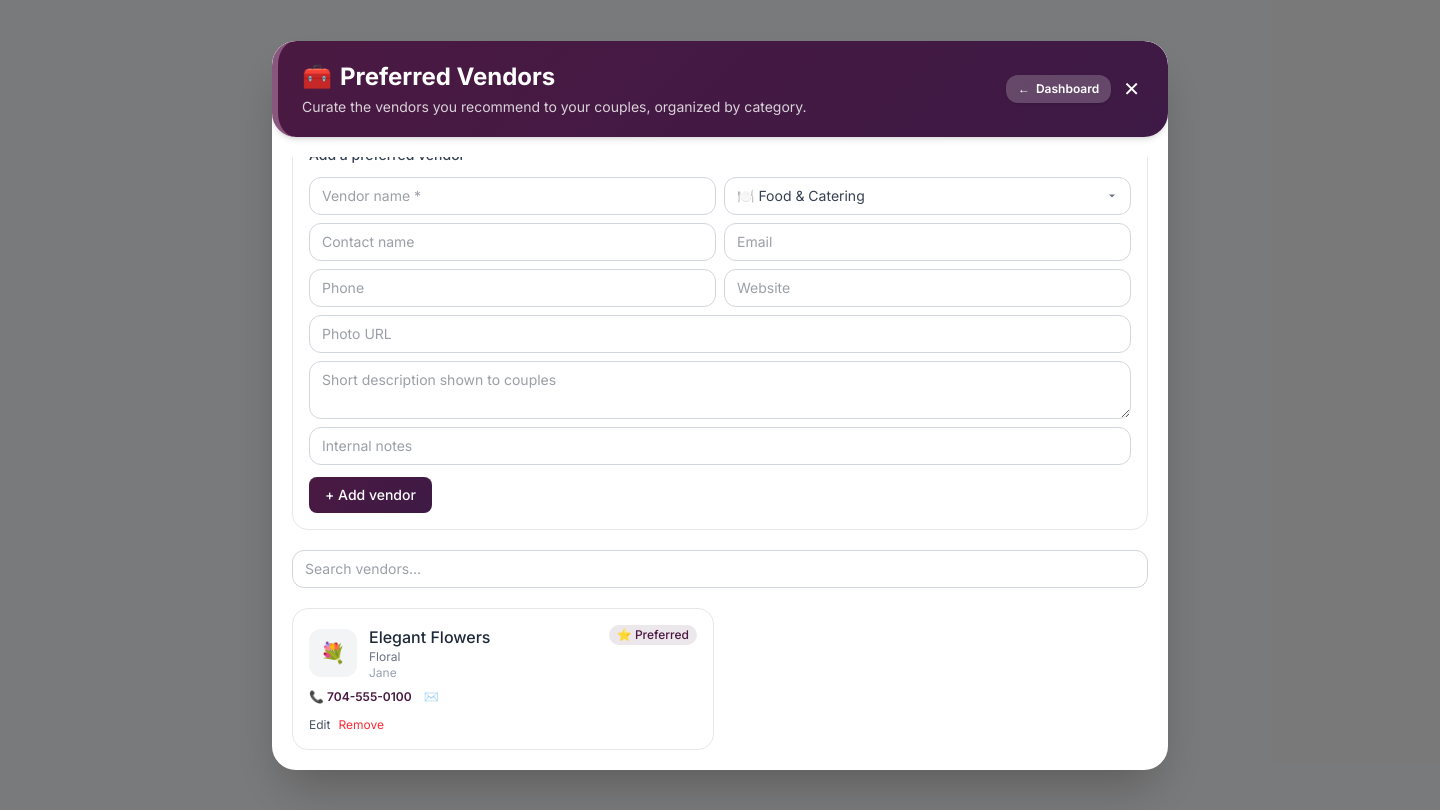
it: VendorPanel edit flow › renders the Edit button and lets a user update a vendor
(page scrolled)
Click the button "Edit" at (320, 724), box x1=309 y1=716 x2=330 y2=732
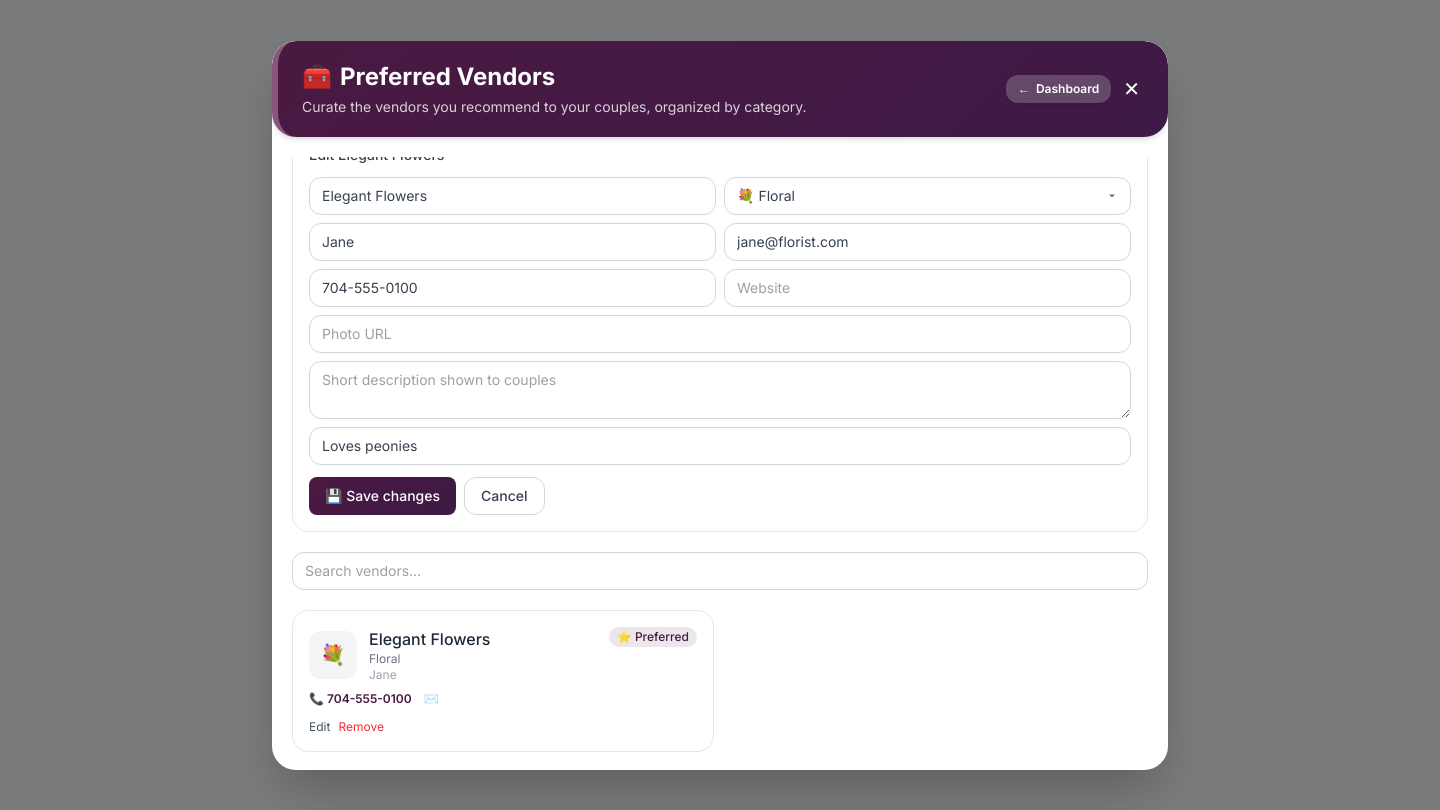
Note: Name field is pre-filled with the current vendor name.
Replace the text in the field showing "Elegant Flowers" with "Elegant Blooms Co." at (512, 196), box x1=309 y1=176 x2=716 y2=214
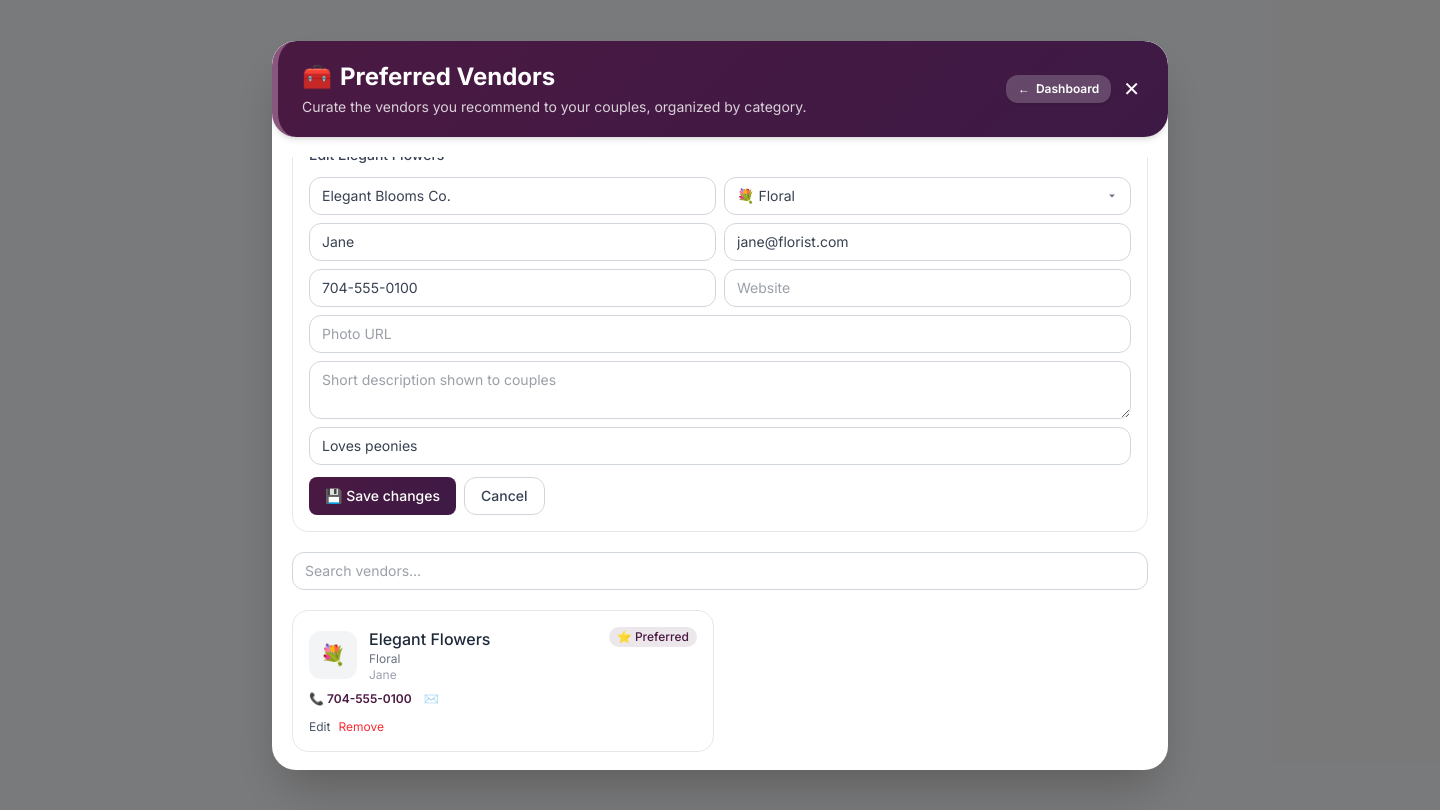
Click the button "💾 Save changes" at (382, 496), box x1=309 y1=476 x2=456 y2=514
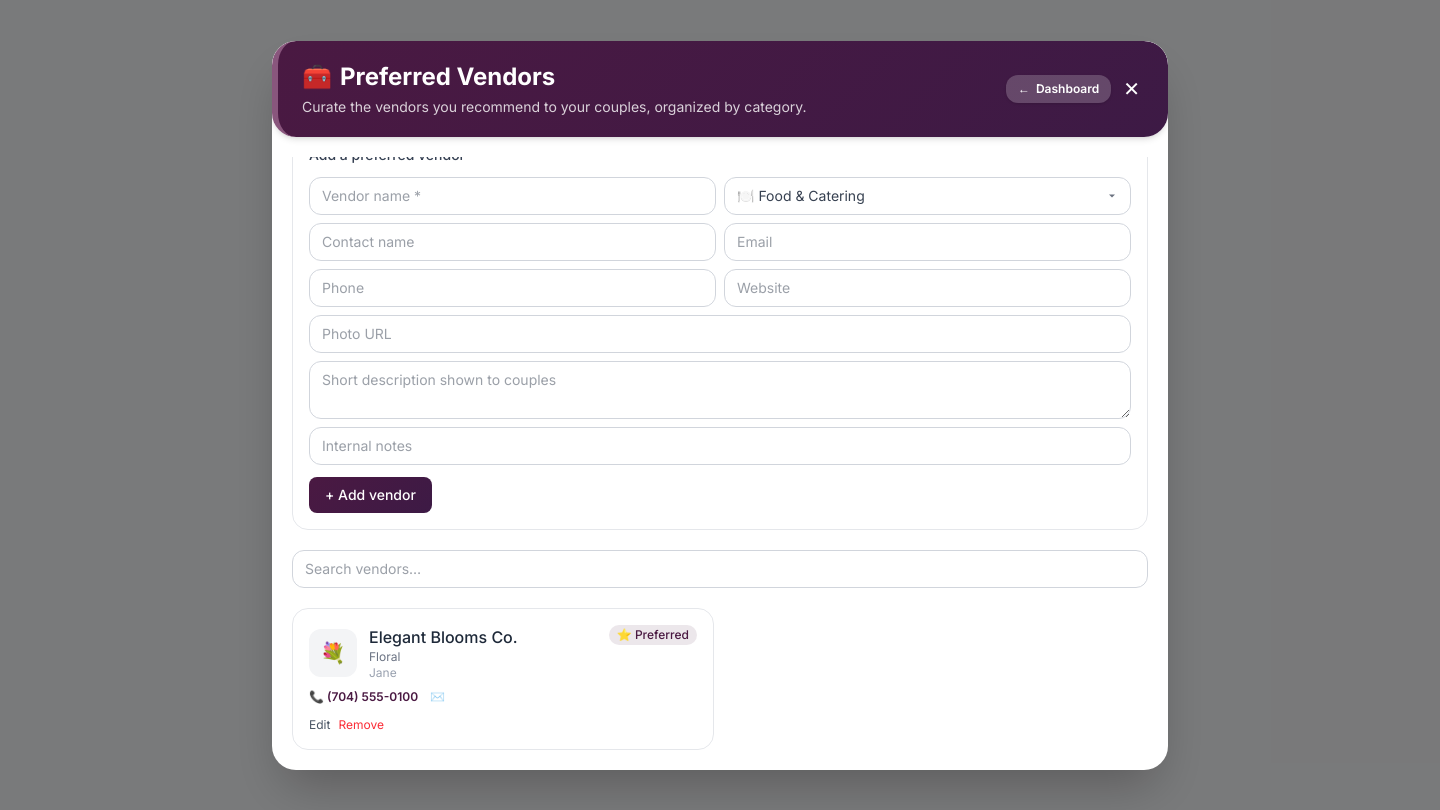
expect the text "Jane" is shown: met, box x1=369 y1=664 x2=397 y2=680
expect the button "💾 Save changes" is gone: met
expect the text "Elegant Blooms Co." is shown: met, box x1=369 y1=624 x2=518 y2=648
